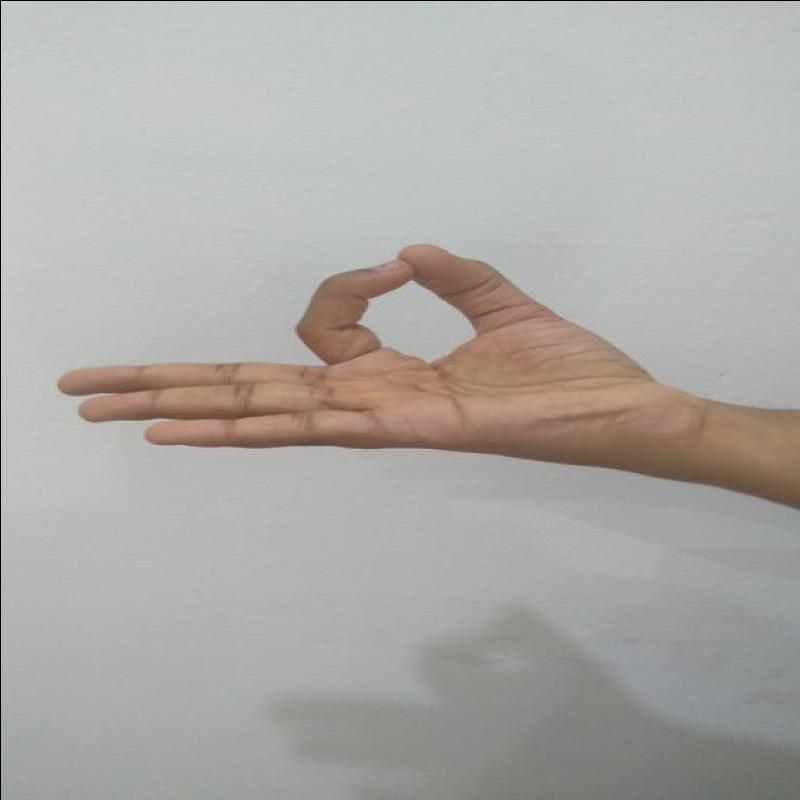Mudraakhyam: (50, 235, 665, 472)
